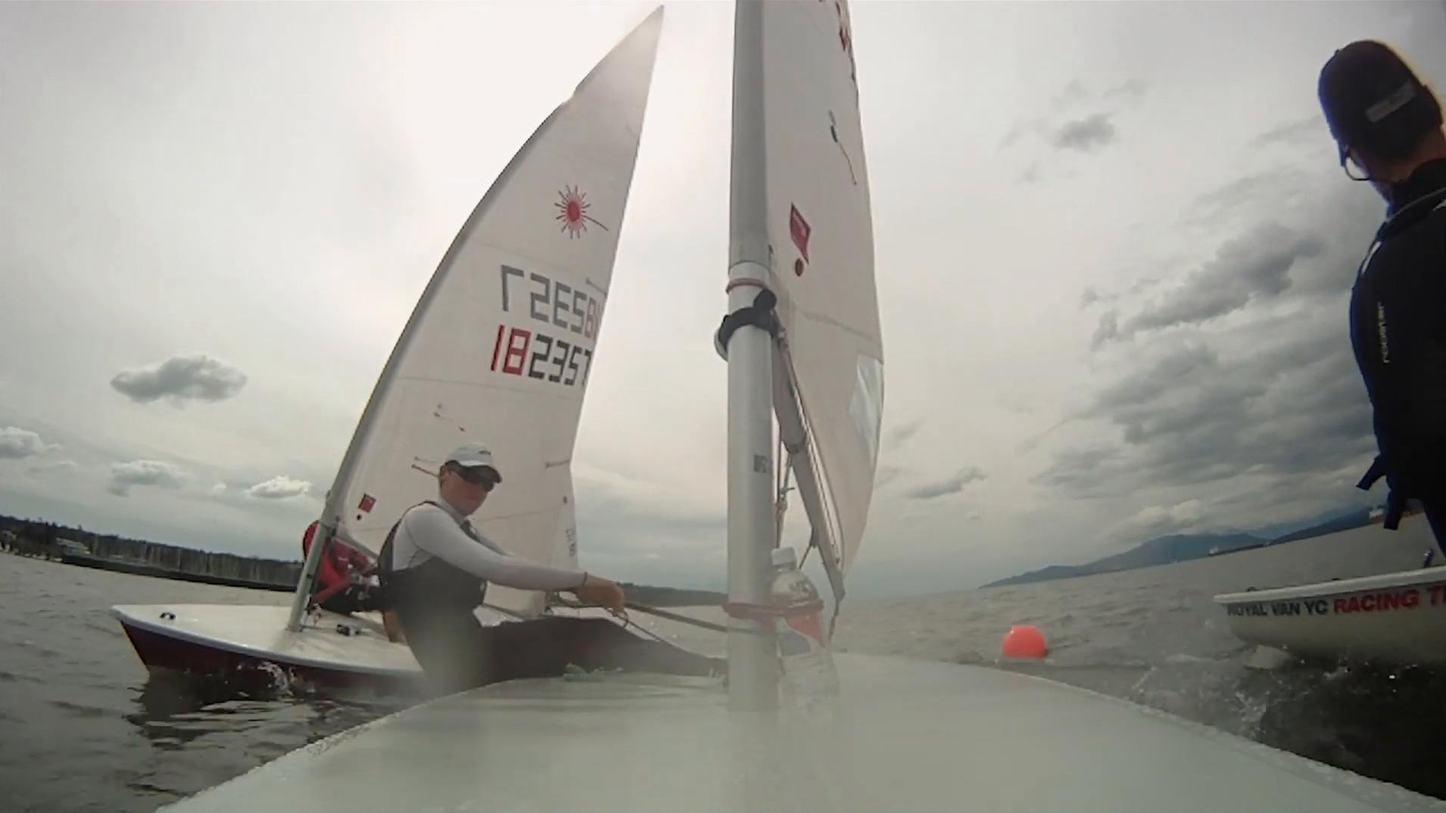boat: (155, 0, 1446, 813)
land: (991, 506, 1377, 586), (0, 519, 293, 593), (620, 584, 728, 606)
person: (390, 446, 728, 690)
sea: (835, 517, 1446, 801), (0, 552, 378, 813)
sky: (0, 0, 662, 565), (846, 0, 1446, 602), (568, 0, 737, 597)
